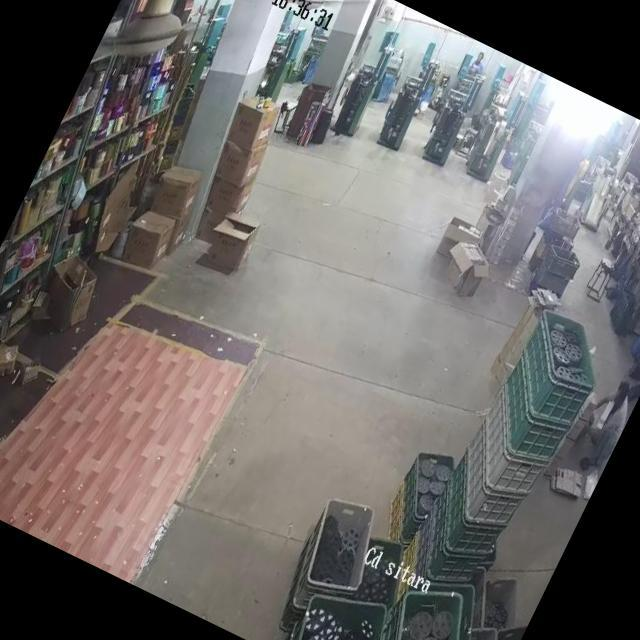person: (565, 376, 640, 482)
